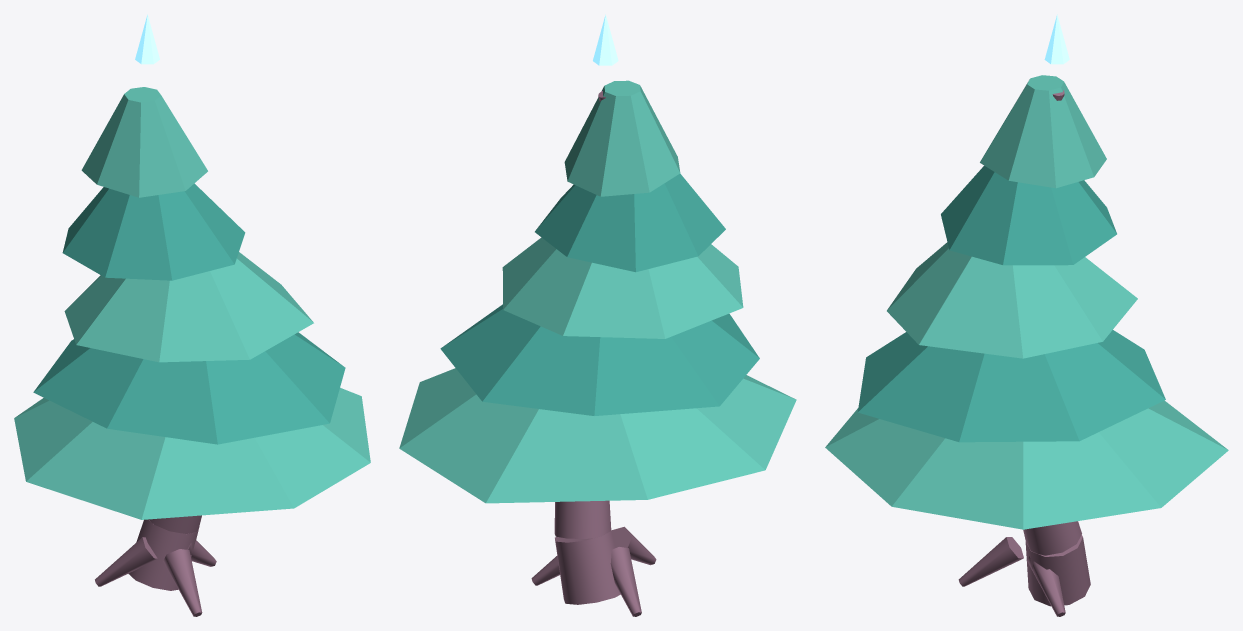
File: tree_pine.glb
3 views of the same model, side by side, from view 1: azimuth 30°, elevation 25°; view 2: azimuth 150°, elevation 25°; view 3: azimuth 270°, elevation 25° (orthographic). The views are drawn at different scales.
Parts seen in each view (by area): view 1: TreePine.001; view 2: TreePine.001; view 3: TreePine.001.
Boxes of the visible parts, x1,y1,x2,y2 form: TreePine.001: [14, 14, 370, 616]; TreePine.001: [399, 14, 796, 616]; TreePine.001: [825, 14, 1228, 616].
Size of the model in its own units: 3.23 by 5.28 by 3.36.
